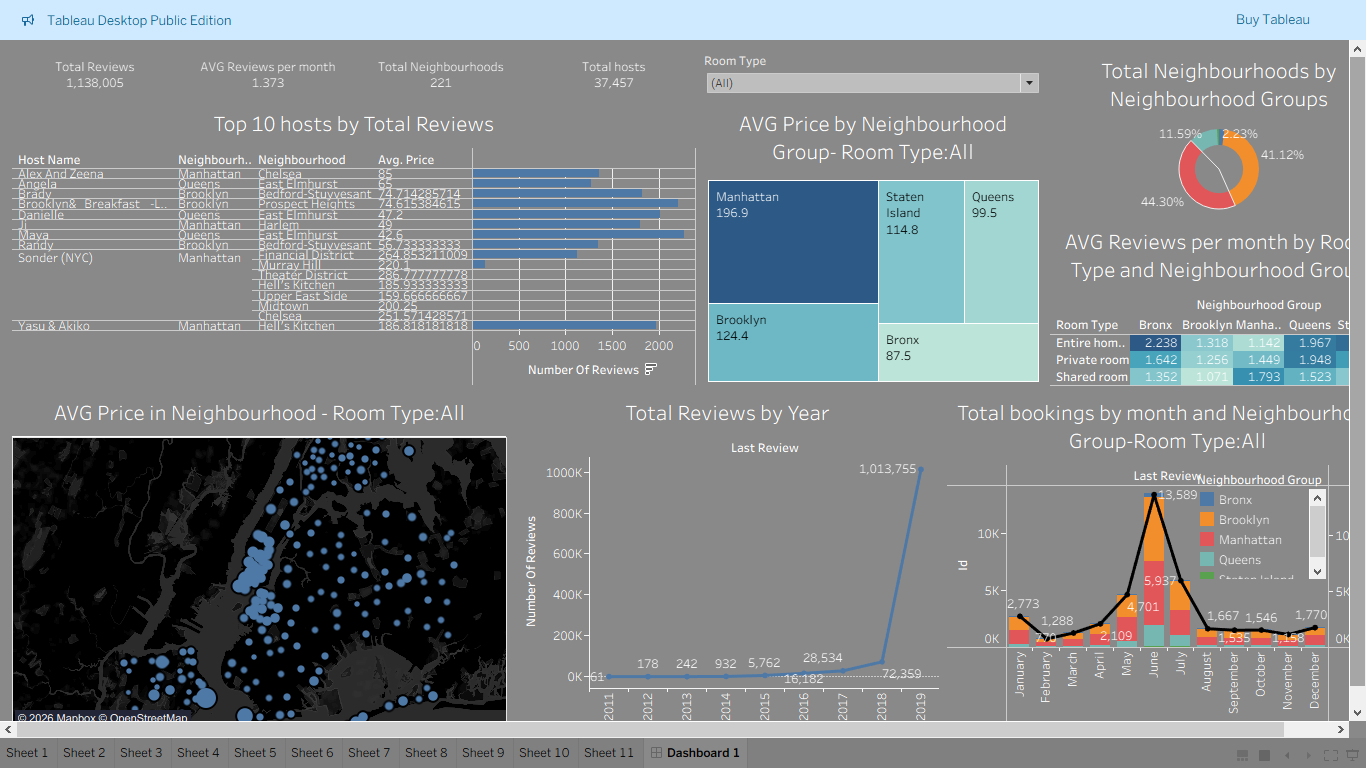

Layout of this report page (visuals, bound fields, positions):
{"tool":"tableau","page":{"name":"Dashboard 1","canvas":[1000,1000],"units":"permille","ordinal":0},"visuals":[{"type":"worksheet","title":"Sheet 4","mark":"Shape","rows":["Sub-Category"],"box":[6.9,13.5,416.4,486.5]},{"type":"worksheet","title":"Sheet 1","mark":"Automatic","box":[423.4,13.5,323.2,486.5]},{"type":"worksheet","title":"Sheet 5","mark":"Automatic","rows":["Profit"],"cols":["Category"],"box":[746.5,13.5,246.5,486.5]},{"type":"worksheet","title":"Sheet 2","mark":"Automatic","rows":["Sales","Profit"],"cols":["Sub-Category"],"box":[6.9,500,493.1,486.5]},{"type":"worksheet","title":"Sheet 3","mark":"Automatic","rows":["Sales"],"cols":["Order Date"],"box":[500,500,493.1,486.5]}]}

Visuals, with their boxes on the dashboard's canvas, which has no fixed pixel size, in thousandths of its width and height (x1, y1, x2, y2). These are canvas units, not pixel positions in the 1366x768 screenshot, which may show the page scaled, cropped or inside an application window:
"Sheet 4" worksheet (Shape marks): bbox(7, 14, 423, 500)
"Sheet 1" worksheet: bbox(423, 14, 747, 500)
"Sheet 5" worksheet: bbox(746, 14, 993, 500)
"Sheet 2" worksheet: bbox(7, 500, 500, 986)
"Sheet 3" worksheet: bbox(500, 500, 993, 986)
